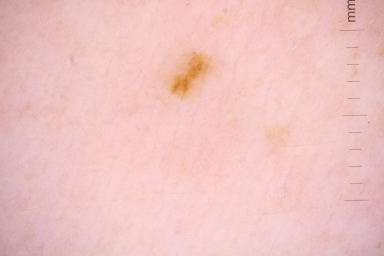melanoma: (172, 54, 204, 97)
